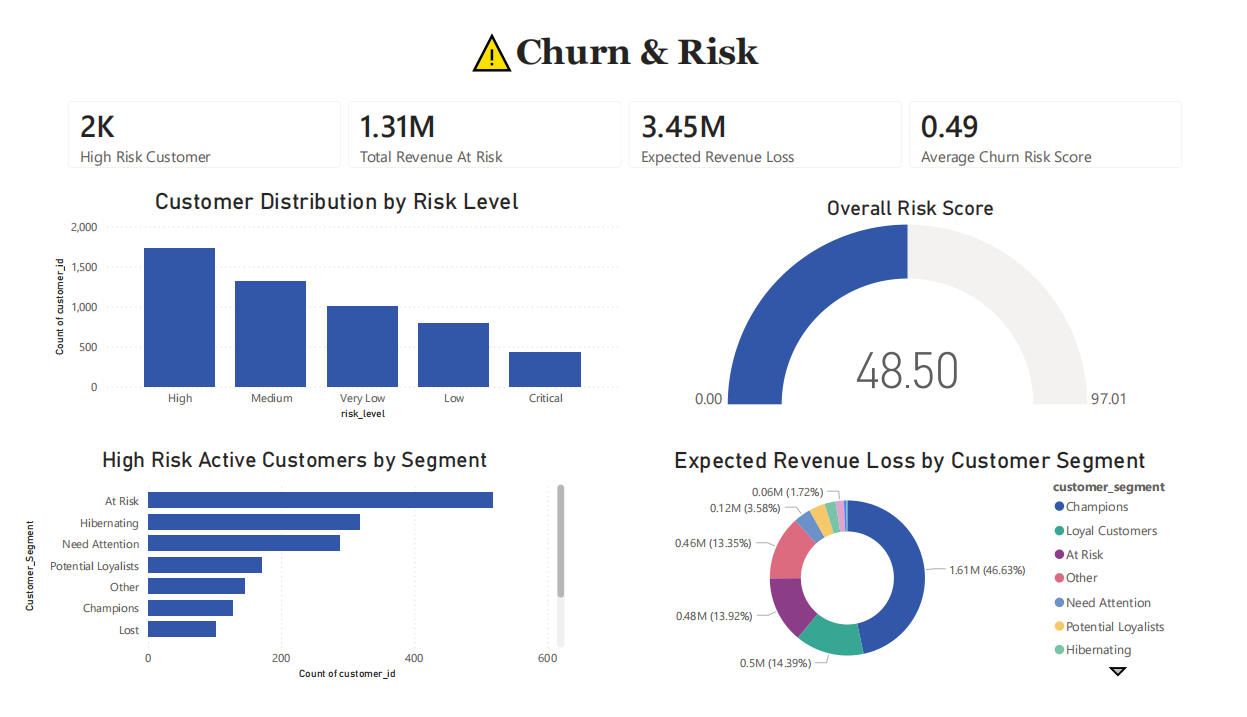

The page's visual inventory and layout, read from the dashboard file:
{"tool":"powerbi","page":{"name":"Churn & Risk Analysis","canvas":[1280,720],"ordinal":3},"visuals":[{"type":"textbox","box":[458.7,0,413.1,66.7],"z":0},{"type":"donutChart","title":"Expected Revenue Loss by Customer Segment","fields":{"Category":["dim_customer.customer_segment"],"Y":["Calendar.Expected Revenue Loss"]},"box":[652.2,450.6,580.7,250.5],"z":1000},{"type":"gauge","fields":{"Y":["Calendar.Overall Risk Score"]},"box":[639.2,185.4,608.3,229.3],"z":2000},{"type":"clusteredBarChart","title":"High Risk Active Customers by Segment","fields":{"Category":["High_Risk_Customers.Customer_Segment"],"Y":["Count(High_Risk_Customers.customer_id)"]},"box":[0,450.6,580.7,250.5],"z":3000},{"type":"cardVisual","fields":{"Data":["Calendar.High Risk Customer","Calendar.Total Revenue At Risk","Calendar.Expected Revenue Loss","Calendar.Average Churn Risk Score"]},"box":[32.5,66.7,1215,105.7],"z":4000},{"type":"clusteredColumnChart","title":"Customer Distribution by Risk Level","fields":{"Category":["dim_customer_risk.risk_level"],"Y":["CountNonNull(dim_customer_risk.customer_id)"]},"box":[30.9,175.7,608.3,250.5],"z":5000}]}

Visuals, with their boxes in screenshot pixels (x1, y1, x2, y2), scaled from the page's 1280x720 canvas onto the 1247x717 screenshot:
textbox: (x1=447, y1=0, x2=849, y2=66)
"Expected Revenue Loss by Customer Segment" donutChart: (x1=635, y1=449, x2=1201, y2=698)
gauge - Calendar.Overall Risk Score: (x1=623, y1=185, x2=1215, y2=413)
"High Risk Active Customers by Segment" clusteredBarChart: (x1=0, y1=449, x2=566, y2=698)
cardVisual - Calendar.High Risk Customer x Calendar.Total Revenue At Risk: (x1=32, y1=66, x2=1215, y2=172)
"Customer Distribution by Risk Level" clusteredColumnChart: (x1=30, y1=175, x2=623, y2=424)
